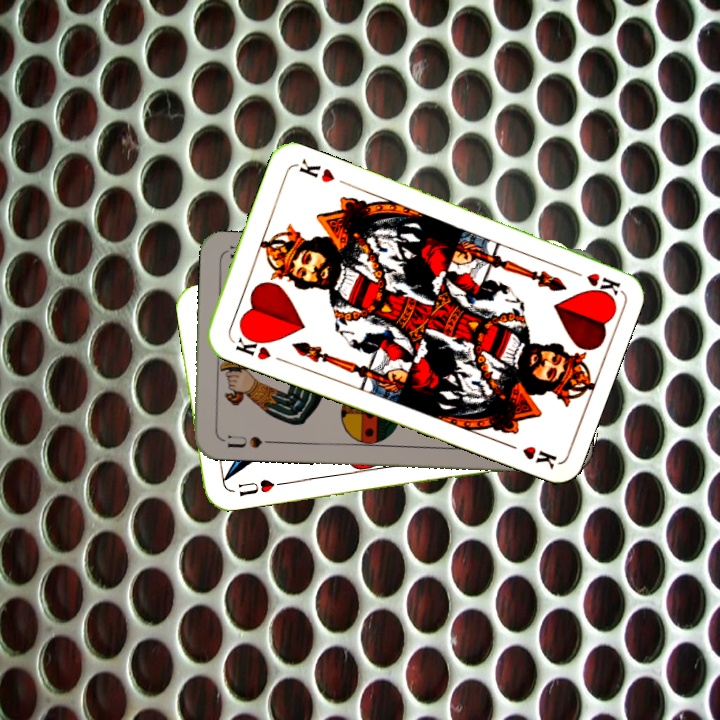HK: (564, 264, 622, 298), (227, 328, 273, 363)
HU: (234, 475, 277, 499)
SU: (223, 431, 276, 451)
